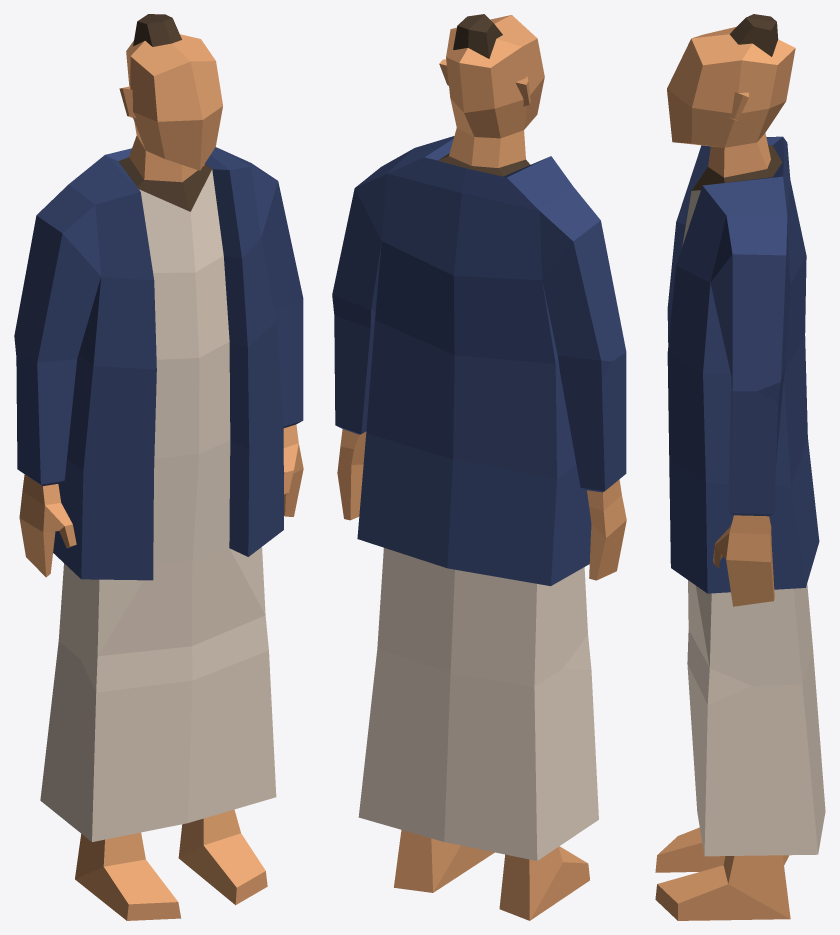
Rendered from man-samurai.glb.
3 renders of one model, left to right at view 1: azimuth 30°, elevation 25°; view 2: azimuth 150°, elevation 25°; view 3: azimuth 270°, elevation 25°, orthographic.
Visible parts, largest first — view 1: man-samurai; view 2: man-samurai; view 3: man-samurai.
Part boxes in pixels (x1,y1,x2,y2): man-samurai: [14, 14, 303, 920]; man-samurai: [332, 14, 626, 920]; man-samurai: [655, 14, 825, 920].
Size of the model in its own units: 0.5881 by 1.81 by 0.3218.
Materials: 1 (1 with a texture image).
